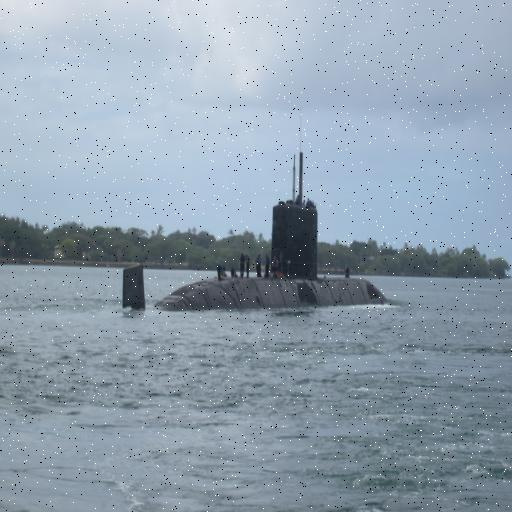submarine: (124, 152, 391, 314)
